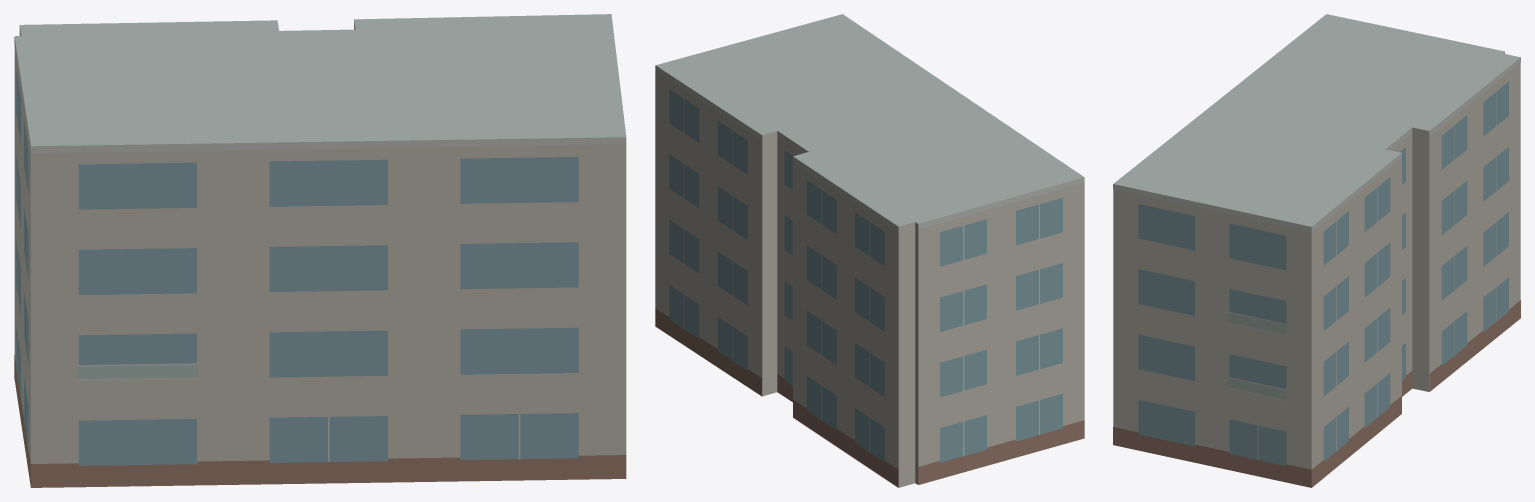
Rendered from survey-upis-32656171.glb.
The picture shows the model from 3 angles, left to right: view 1: azimuth 30°, elevation 25°; view 2: azimuth 150°, elevation 25°; view 3: azimuth 270°, elevation 25°; orthographic projection. The views are drawn at different scales.
Parts seen in each view (by area): view 1: survey-upis-32656171.tmp; view 2: survey-upis-32656171.tmp; view 3: survey-upis-32656171.tmp.
Boxes of the visible parts, x1,y1,x2,y2 form: survey-upis-32656171.tmp: [14, 14, 626, 487]; survey-upis-32656171.tmp: [655, 14, 1084, 487]; survey-upis-32656171.tmp: [1113, 14, 1520, 487].
Size of the model in its own units: 20.29 by 11.6 by 16.42.
